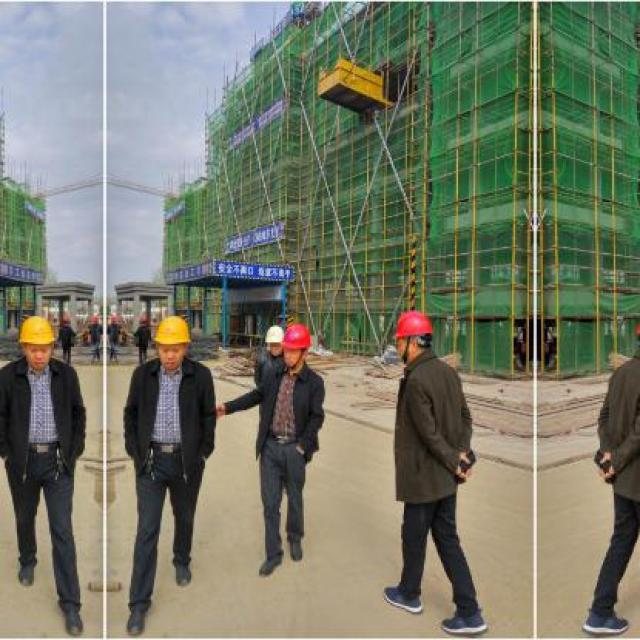helmet: (392, 308, 439, 363), (18, 308, 56, 366), (154, 308, 190, 366), (281, 319, 313, 370), (261, 324, 283, 359)
